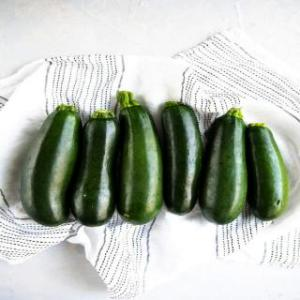zucchini: (28, 106, 86, 220)
